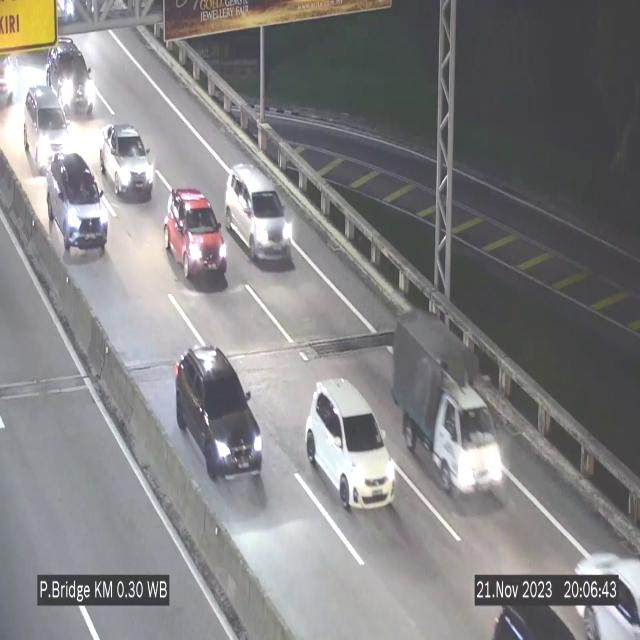Car: (176, 347, 263, 491), (306, 380, 394, 510), (44, 155, 112, 264), (568, 543, 640, 640), (224, 164, 292, 264), (165, 187, 227, 285), (20, 88, 81, 180), (44, 34, 98, 124), (100, 124, 154, 198), (488, 601, 582, 640)
Truck: (395, 310, 507, 516)
